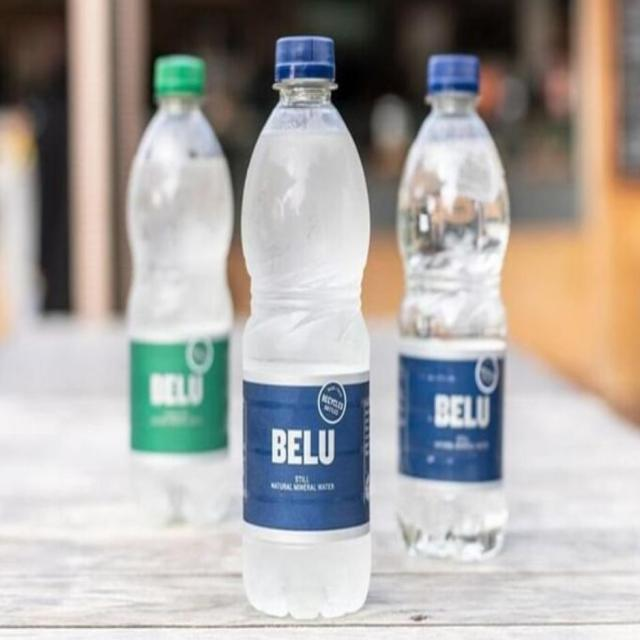bottle: (234, 33, 381, 622), (389, 48, 518, 576), (120, 47, 238, 543)
